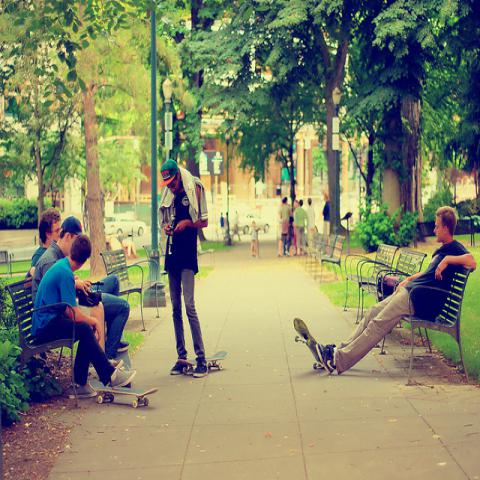car: (229, 211, 274, 235), (104, 214, 148, 236)
